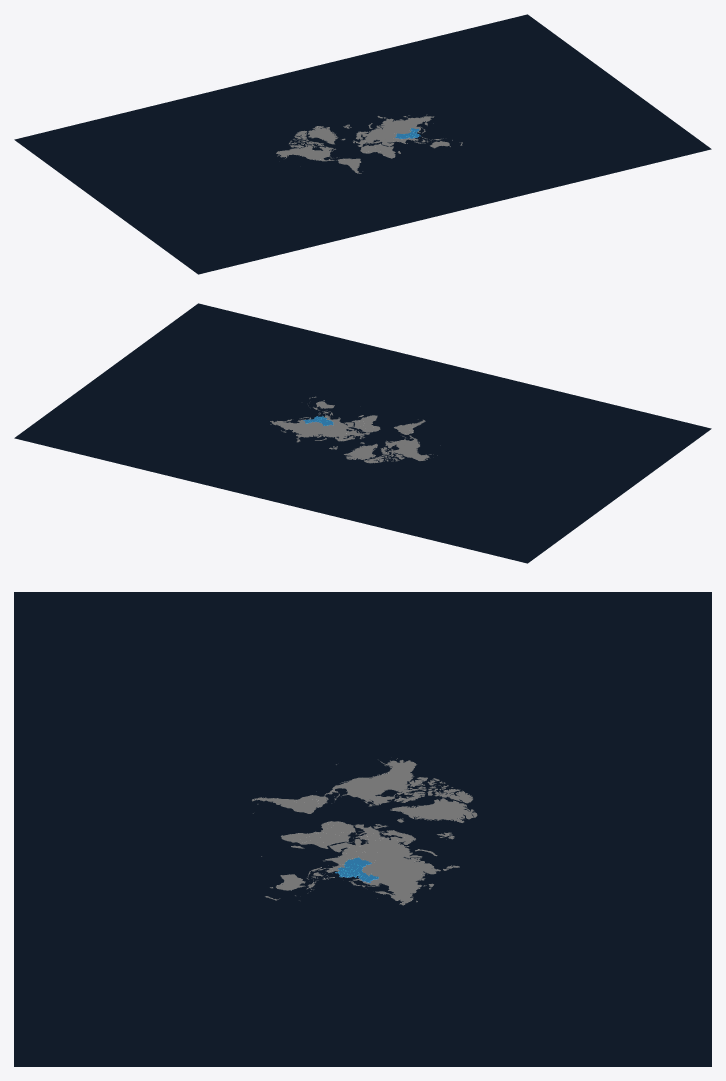
Rendered from 世界带边界最新4.fbx.
3 views of the same model, one above another, from view 1: azimuth 30°, elevation 25°; view 2: azimuth 150°, elevation 25°; view 3: azimuth 270°, elevation 25° (orthographic). The views are drawn at different scales.
Visible parts, largest first — view 1: Plane001, 对象503; view 2: Plane001, 对象503; view 3: Plane001, 对象503, 对象1081, 对象1026.
Part boxes in pixels (<box>): Plane001: <box>14,14,711,274</box>; 对象503: <box>361,116,431,140</box>; Plane001: <box>14,303,711,563</box>; 对象503: <box>273,419,346,439</box>; Plane001: <box>14,592,711,1066</box>; 对象503: <box>361,839,440,901</box>; 对象1081: <box>361,770,418,805</box>; 对象1026: <box>390,798,477,817</box>.
Bounding box in the file's own units: 7774 × 10.75 × 4831.
